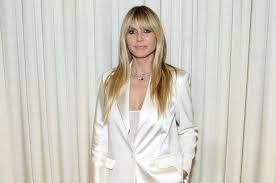white_female: (127, 20, 167, 64)
